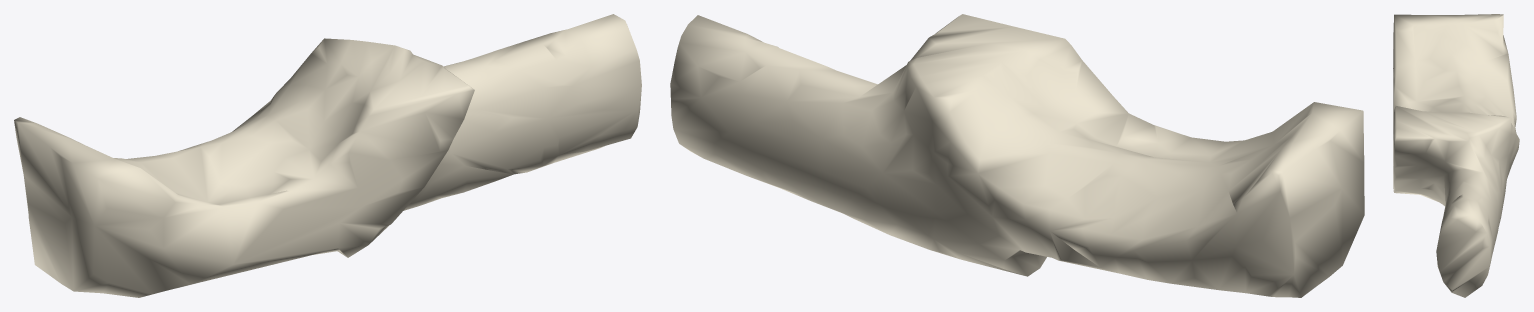
Rendered from jugal_r.glb.
The picture shows the model from 3 angles, left to right: view 1: azimuth 30°, elevation 25°; view 2: azimuth 150°, elevation 25°; view 3: azimuth 270°, elevation 25°; orthographic projection. The views are drawn at different scales.
Visible parts, largest first — view 1: geometry_0; view 2: geometry_0; view 3: geometry_0.
Boxes of the visible parts, x1=… form: geometry_0: x1=14, y1=14, x2=641, y2=297; geometry_0: x1=670, y1=14, x2=1364, y2=297; geometry_0: x1=1393, y1=14, x2=1519, y2=297.
Size of the model in its own units: 0.23 by 0.0654 by 0.0646.
